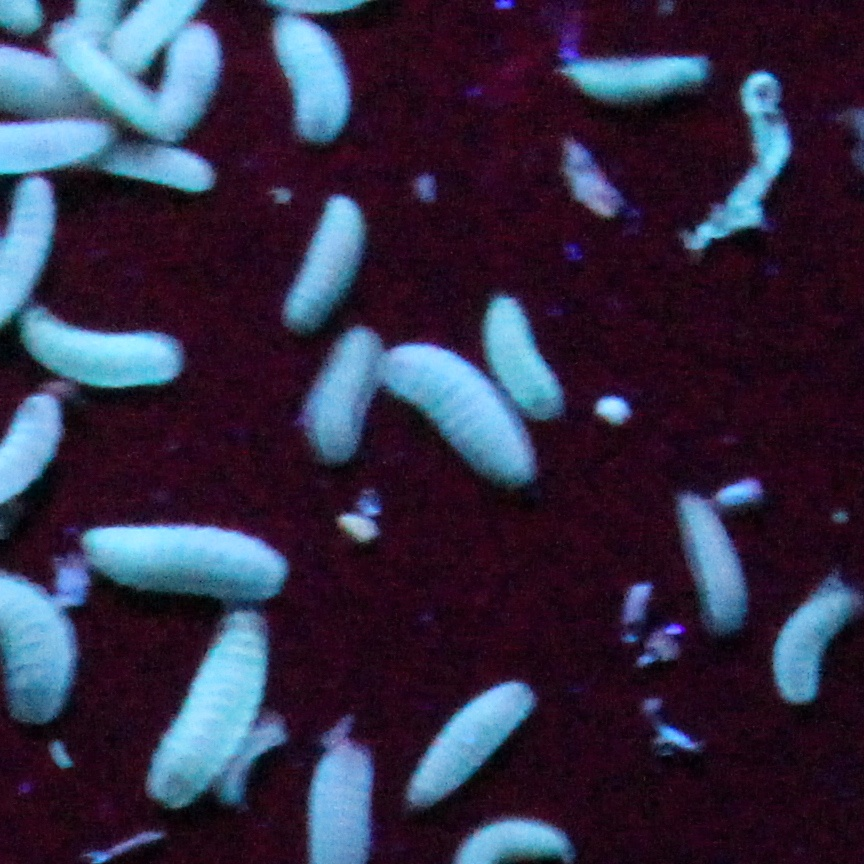larve: (146, 612, 265, 799), (390, 342, 525, 499), (404, 672, 529, 811), (10, 292, 189, 387), (85, 522, 291, 603), (64, 28, 182, 145), (675, 478, 753, 632), (288, 193, 362, 339), (299, 328, 377, 466), (482, 291, 561, 421), (275, 17, 357, 142), (786, 580, 848, 712), (87, 140, 218, 193), (165, 18, 217, 133), (565, 64, 713, 100)
